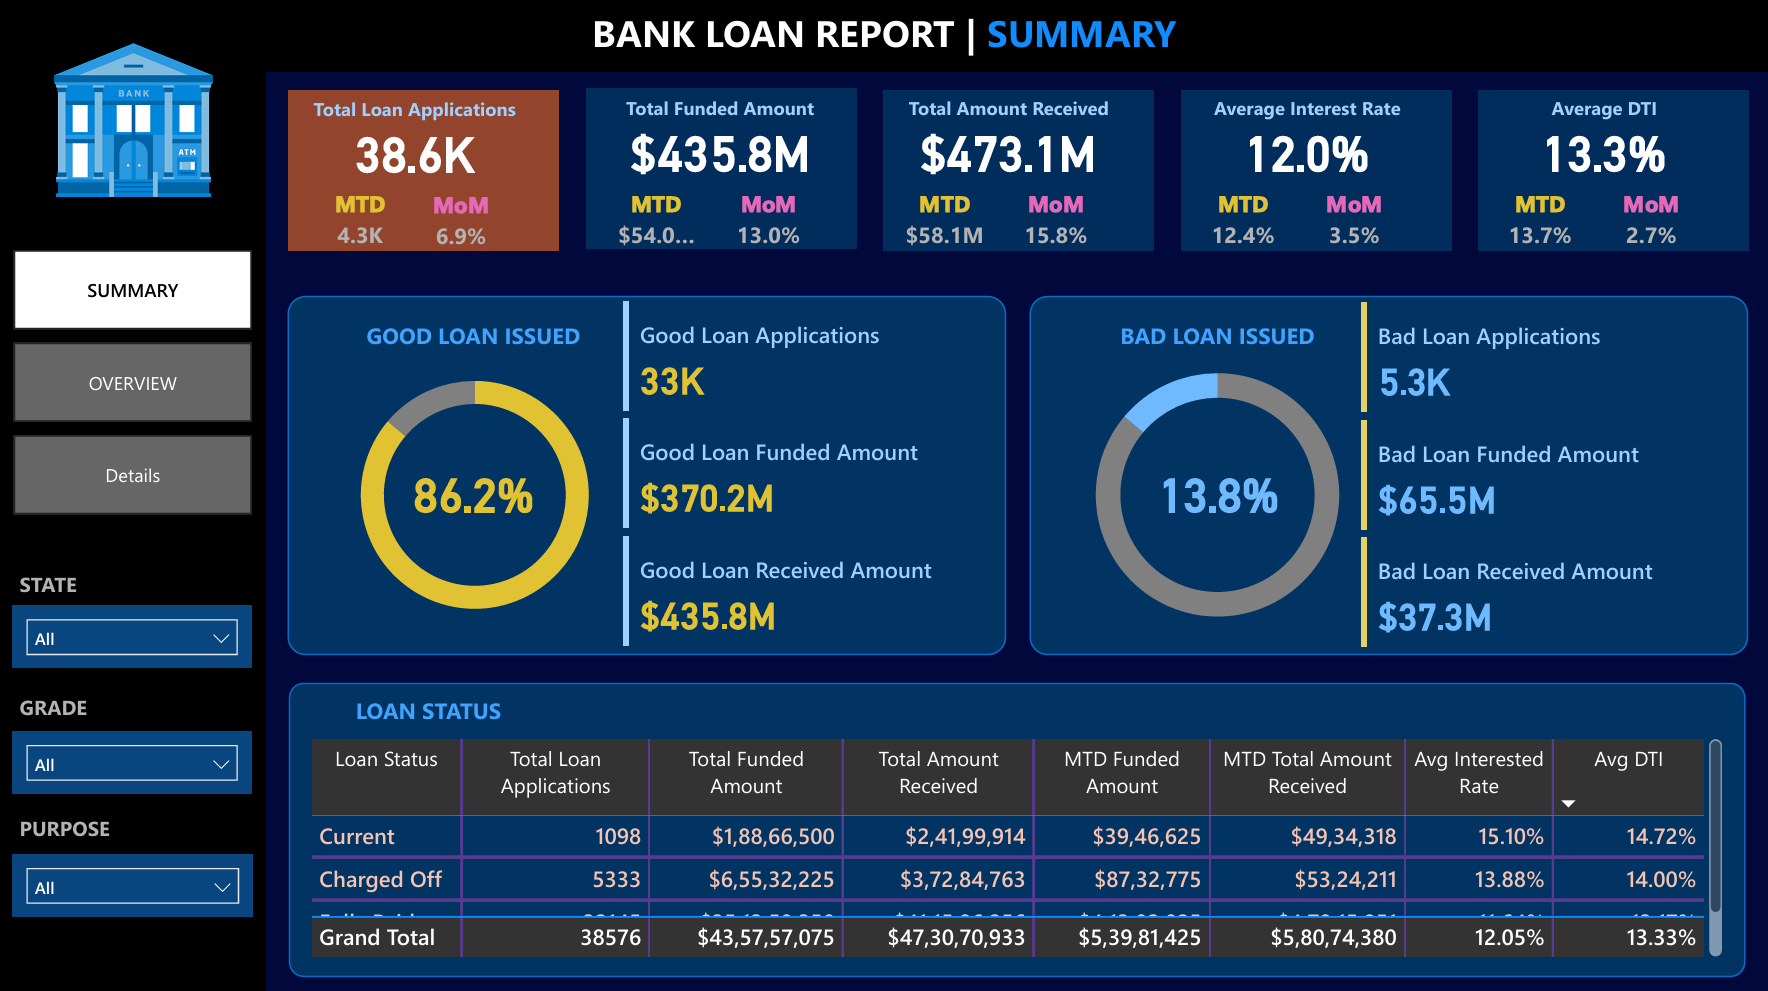

What the dashboard file says about the page in this screenshot:
{"tool":"powerbi","page":{"name":"SUMMARY","canvas":[1280,720],"ordinal":0},"visuals":[{"type":"shape","box":[0,0,1279.5,55],"z":0},{"type":"shape","box":[0,54.3,192,665.6],"z":1000},{"type":"textbox","box":[415.6,2.7,448.2,48.9],"z":2000},{"type":"shape","box":[424.2,67.1,195.7,116.4],"z":3000,"group":"g2"},{"type":"group","id":"g1","title":"Group 1","box":[208.8,67.6,195.9,120.6],"z":3000},{"type":"shape","box":[208.8,67.6,195.9,116.5],"z":3000,"group":"g1"},{"type":"shape","box":[639.5,67.9,195.6,116.7],"z":3000,"group":"g3"},{"type":"shape","box":[854.7,67.9,195.6,116.7],"z":3000,"group":"g4"},{"type":"shape","box":[1070,67.9,195.6,116.7],"z":3000,"group":"g5"},{"type":"card","fields":{"Values":["bank_loan_data.Total Amount Received"]},"box":[653.9,86.5,152.2,49.4],"z":4000,"group":"g3"},{"type":"card","fields":{"Values":["bank_loan_data.Avg Interested Rate"]},"box":[869.1,86.5,152.2,49.4],"z":4000,"group":"g4"},{"type":"card","fields":{"Values":["bank_loan_data.Avg DTI"]},"box":[1084.4,86.5,152.2,49.4],"z":4000,"group":"g5"},{"type":"card","fields":{"Values":["bank_loan_data.Total Funded Amount"]},"box":[445.4,86.8,152.2,49.4],"z":4000,"group":"g2"},{"type":"card","fields":{"Values":["bank_loan_data.Total Loan Apllications"]},"box":[223.9,87,152.2,49.4],"z":4000,"group":"g1"},{"type":"shape","box":[208.3,216.7,520,260],"z":4000},{"type":"group","id":"g2","title":"Group 1","box":[424.2,67.1,195.7,121.5],"z":5000},{"type":"textbox","box":[650,67.1,160,30],"z":5000,"group":"g3"},{"type":"textbox","box":[865.2,67.1,160,30],"z":5000,"group":"g4"},{"type":"textbox","box":[1080.5,67.1,160,30],"z":5000,"group":"g5"},{"type":"textbox","box":[441.5,67.3,160,30],"z":5000,"group":"g2"},{"type":"textbox","box":[220,67.6,160,30],"z":5000,"group":"g1"},{"type":"card","title":"MTD","fields":{"Values":["bank_loan_data.MTD Loan Applications"]},"box":[235.6,138.4,48.8,48.8],"z":6000,"group":"g1"},{"type":"card","title":"MTD","fields":{"Values":["bank_loan_data.MTD Total Amount Received"]},"box":[650.4,139.1,66.7,49.3],"z":6000,"group":"g3"},{"type":"card","title":"MTD","fields":{"Values":["bank_loan_data.MTD Avg Int Rate"]},"box":[865.6,139.1,66.7,49.3],"z":6000,"group":"g4"},{"type":"card","title":"MTD","fields":{"Values":["bank_loan_data.MTD Avg DTI"]},"box":[1080.9,139.1,66.7,49.3],"z":6000,"group":"g5"},{"type":"card","title":"MTD","fields":{"Values":["bank_loan_data.MTD Funded Amount"]},"box":[441.9,139.3,66.7,49.3],"z":6000,"group":"g2"},{"type":"card","fields":{"Values":["bank_loan_data.Good Loan %"]},"box":[266.7,335,151.7,48.3],"z":6000},{"type":"card","title":"MoM","fields":{"Values":["bank_loan_data.MoM Total Amount Received"]},"box":[732.5,139,64.3,49.3],"z":7000,"group":"g3"},{"type":"card","title":"MoM","fields":{"Values":["bank_loan_data.MoM Avg Int Rate"]},"box":[947.7,139,64.3,49.3],"z":7000,"group":"g4"},{"type":"card","title":"MoM","fields":{"Values":["bank_loan_data.MoM Avg DTI"]},"box":[1163,139,64.3,49.3],"z":7000,"group":"g5"},{"type":"card","title":"MoM","fields":{"Values":["bank_loan_data.MoM Total Funded Amount"]},"box":[524,139.2,64.3,49.3],"z":7000,"group":"g2"},{"type":"card","title":"MoM","fields":{"Values":["bank_loan_data.MoM Loan Applications"]},"box":[299.3,139.7,67.5,48.8],"z":7000,"group":"g1"},{"type":"textbox","box":[253.1,230,179.2,31.5],"z":7000},{"type":"group","id":"g3","title":"Group 1","box":[639.5,67.1,195.7,121.4],"z":8000},{"type":"group","id":"g4","title":"Group 1","box":[854.7,67.1,195.7,121.4],"z":9000},{"type":"group","id":"g5","title":"Group 1","box":[1070,67.1,197.1,121.4],"z":10000},{"type":"donutChart","fields":{"Category":["bank_loan_data.Good Vs Bad Loan"],"Y":["bank_loan_data.Total Loan Applications"]},"box":[224.3,252.9,238.6,215.7],"z":11000},{"type":"shape","box":[745,216.7,520,260],"z":12000},{"type":"cardVisual","fields":{"Data":["bank_loan_data.Good Loan Applications","bank_loan_data.Good Loan Funded Amount","bank_loan_data.Good Loan Received Amount"]},"box":[445.8,215.8,282.5,259.2],"z":13000},{"type":"donutChart","fields":{"Category":["bank_loan_data.Good Vs Bad Loan"],"Y":["bank_loan_data.Total Loan Applications"]},"box":[755.7,245.7,250,230],"z":14000},{"type":"textbox","box":[791.4,230,180,31.4],"z":15000},{"type":"shape","box":[208.6,497.1,1054.3,212.9],"z":16000},{"type":"card","fields":{"Values":["bank_loan_data.Bad Loan %"]},"box":[805.7,334.3,151.4,48.6],"z":17000},{"type":"cardVisual","fields":{"Data":["bank_loan_data.Bad Loan Applications","bank_loan_data.Bad Loan Funded Amount","bank_loan_data.Bad Loan Received Amount"]},"box":[980,217.1,282.9,260],"z":18000},{"type":"tableEx","fields":{"Values":["bank_loan_data.loan_status","bank_loan_data.Total Loan Applications","bank_loan_data.Total Funded Amount","bank_loan_data.Total Amount Received","bank_loan_data.MTD Funded Amount","bank_loan_data.MTD Total Amount Received","bank_loan_data.Avg Interested Rate","bank_loan_data.Avg DTI"]},"box":[220,532.9,1031.4,167.1],"z":19000},{"type":"textbox","box":[220,501.4,180,31.4],"z":20000},{"type":"slicer","fields":{"Values":["bank_loan_data.address_state"]},"box":[8.8,441.2,173.5,45.3],"z":21000},{"type":"textbox","box":[9.4,410,173.5,31.2],"z":22000},{"type":"slicer","fields":{"Values":["bank_loan_data.grade"]},"box":[8.8,532.4,173.5,44.7],"z":23000},{"type":"textbox","box":[9.4,499.4,173.5,32.9],"z":24000},{"type":"slicer","fields":{"Values":["bank_loan_data.purpose"]},"box":[8.9,621.1,173.7,44.7],"z":25000},{"type":"textbox","box":[8.9,587.4,173.7,32.6],"z":26000},{"type":"image","box":[33.8,27.5,125,122.5],"z":27000},{"type":"pageNavigator","box":[10,183.8,172.5,192.5],"z":28000}]}

Visuals, with their boxes in screenshot pixels (x1, y1, x2, y2), scaled from the page's 1280x720 canvas onto the 1768x991 screenshot:
shape: x1=0 y1=0 x2=1767 y2=76
shape: x1=0 y1=75 x2=265 y2=990
textbox: x1=574 y1=4 x2=1193 y2=71
shape: x1=586 y1=92 x2=856 y2=253
"Group 1" group: x1=288 y1=93 x2=559 y2=259
shape: x1=288 y1=93 x2=559 y2=253
shape: x1=883 y1=93 x2=1153 y2=254
shape: x1=1181 y1=93 x2=1451 y2=254
shape: x1=1478 y1=93 x2=1748 y2=254
card - bank_loan_data.Total Amount Received: x1=903 y1=119 x2=1113 y2=187
card - bank_loan_data.Avg Interested Rate: x1=1200 y1=119 x2=1411 y2=187
card - bank_loan_data.Avg DTI: x1=1498 y1=119 x2=1708 y2=187
card - bank_loan_data.Total Funded Amount: x1=615 y1=119 x2=825 y2=187
card - bank_loan_data.Total Loan Apllications: x1=309 y1=120 x2=519 y2=188
shape: x1=288 y1=298 x2=1006 y2=656
"Group 1" group: x1=586 y1=92 x2=856 y2=260
textbox: x1=898 y1=92 x2=1119 y2=134
textbox: x1=1195 y1=92 x2=1416 y2=134
textbox: x1=1492 y1=92 x2=1713 y2=134
textbox: x1=610 y1=93 x2=831 y2=134
textbox: x1=304 y1=93 x2=525 y2=134
"MTD" card: x1=325 y1=190 x2=393 y2=258
"MTD" card: x1=898 y1=191 x2=990 y2=259
"MTD" card: x1=1196 y1=191 x2=1288 y2=259
"MTD" card: x1=1493 y1=191 x2=1585 y2=259
"MTD" card: x1=610 y1=192 x2=703 y2=260
card - bank_loan_data.Good Loan %: x1=368 y1=461 x2=578 y2=528
"MoM" card: x1=1012 y1=191 x2=1101 y2=259
"MoM" card: x1=1309 y1=191 x2=1398 y2=259
"MoM" card: x1=1606 y1=191 x2=1695 y2=259
"MoM" card: x1=724 y1=192 x2=813 y2=259
"MoM" card: x1=413 y1=192 x2=507 y2=259
textbox: x1=350 y1=317 x2=597 y2=360
"Group 1" group: x1=883 y1=92 x2=1154 y2=259
"Group 1" group: x1=1181 y1=92 x2=1451 y2=259
"Group 1" group: x1=1478 y1=92 x2=1750 y2=259
donutChart - bank_loan_data.Good Vs Bad Loan x bank_loan_data.Total Loan Applications: x1=310 y1=348 x2=639 y2=645
shape: x1=1029 y1=298 x2=1747 y2=656
cardVisual - bank_loan_data.Good Loan Applications x bank_loan_data.Good Loan Funded Amount: x1=616 y1=297 x2=1006 y2=654
donutChart - bank_loan_data.Good Vs Bad Loan x bank_loan_data.Total Loan Applications: x1=1044 y1=338 x2=1389 y2=655
textbox: x1=1093 y1=317 x2=1342 y2=360
shape: x1=288 y1=684 x2=1744 y2=977
card - bank_loan_data.Bad Loan %: x1=1113 y1=460 x2=1322 y2=527
cardVisual - bank_loan_data.Bad Loan Applications x bank_loan_data.Bad Loan Funded Amount: x1=1354 y1=299 x2=1744 y2=657
tableEx - bank_loan_data.loan_status x bank_loan_data.Total Loan Applications: x1=304 y1=733 x2=1728 y2=963
textbox: x1=304 y1=690 x2=552 y2=733
slicer - bank_loan_data.address_state: x1=12 y1=607 x2=252 y2=670
textbox: x1=13 y1=564 x2=253 y2=607
slicer - bank_loan_data.grade: x1=12 y1=733 x2=252 y2=794
textbox: x1=13 y1=687 x2=253 y2=733
slicer - bank_loan_data.purpose: x1=12 y1=855 x2=252 y2=916
textbox: x1=12 y1=808 x2=252 y2=853
image: x1=47 y1=38 x2=219 y2=206
pageNavigator: x1=14 y1=253 x2=252 y2=518
